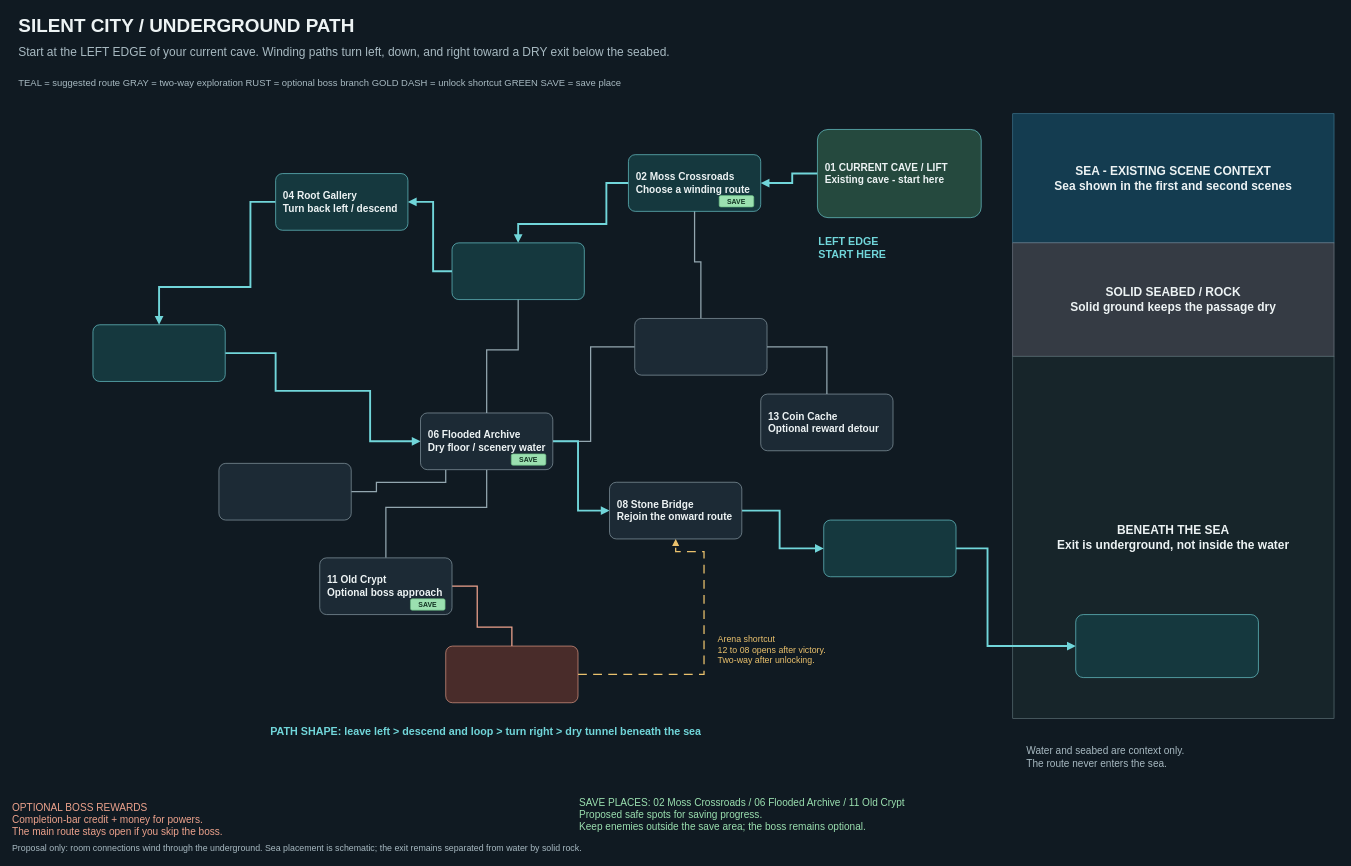
This 1351x866 diagram has some shape labels left out. Here are the shapes that lost their labels. From the top down, the centre of each, then its label:
At (x=517, y=271): "03 Reed Pools Decorative cave water".
At (x=158, y=352): "05 Broken Aqueduct Deep descent / long bend".
At (x=700, y=346): "07 Lower Passage Loop toward crossroads".
At (x=284, y=491): "10 Quiet Alcove Optional quiet side room".
At (x=889, y=548): "09 Deep Junction Turn right beneath sea".
At (x=1166, y=646): "14 Dry Undersea Exit Below seabed - NOT in water".
At (x=511, y=674): "12 Wraith Arena ONE OPTIONAL BOSS".
